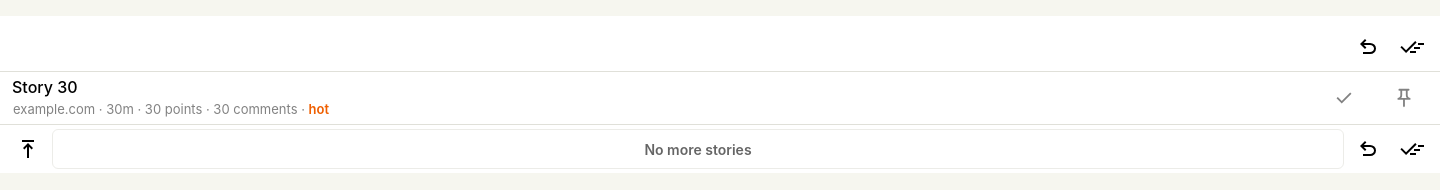
Test: <StoryList> auto-dismiss on scroll › consumes the undo-scroll request so a later auto-dismiss does not re-scroll
Later steps or results of the test are not shown.
(page scrolled)
Expected: the text "Story 10" is not shown
Click the button with test id "undo-btn-bottom".
click(1368, 149)  # box [1348, 129, 1388, 169]
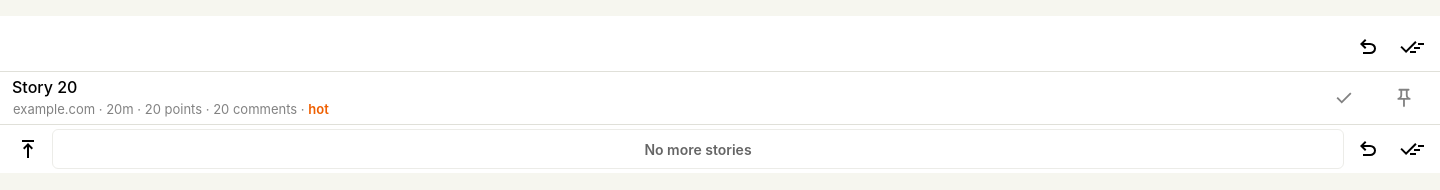
Expected: the link "Story 30" is gone
